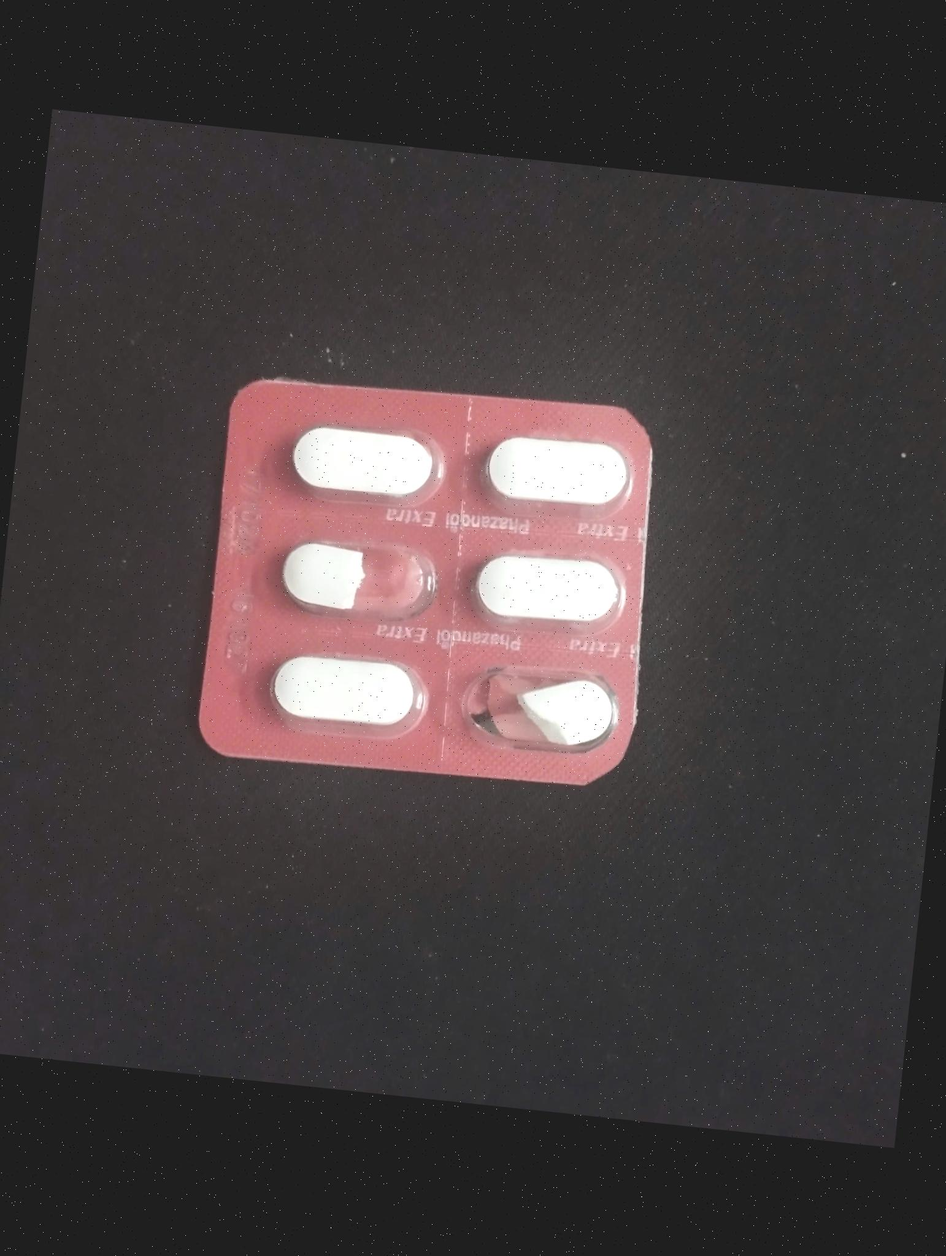Full: (470, 538, 623, 639), (264, 647, 429, 735), (477, 427, 637, 513), (287, 418, 448, 503)
Partial: (255, 529, 442, 634), (464, 662, 621, 761)
